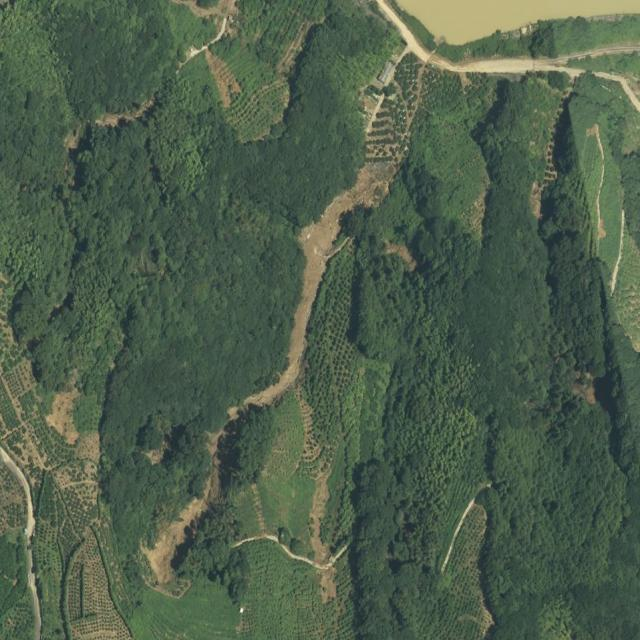landslide: (244, 158, 399, 406)
